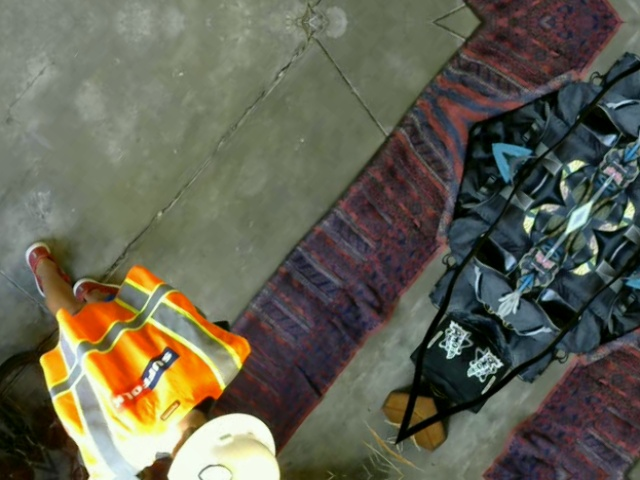eight: (179, 454, 248, 479)
